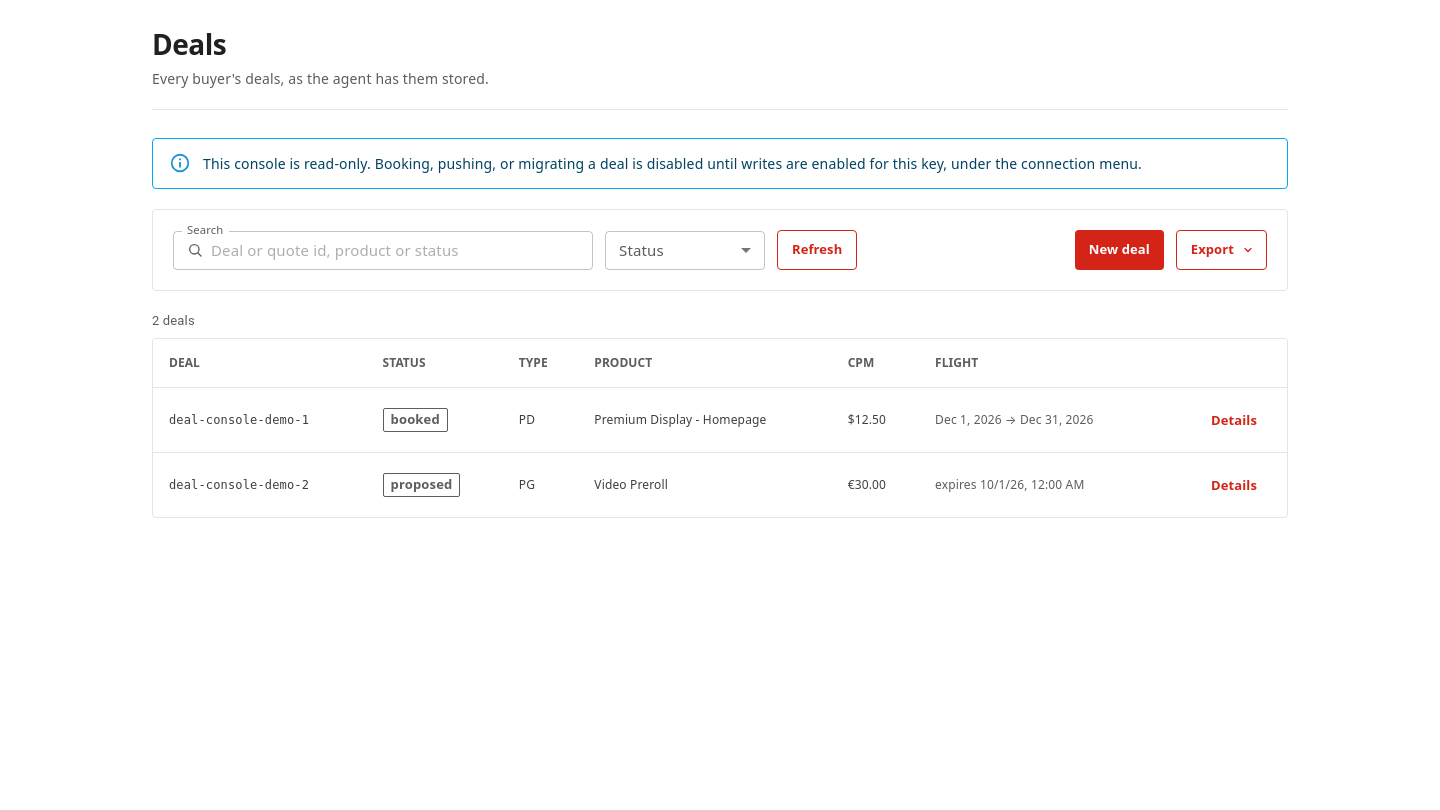
Test: the deals screen › distinguishes an empty filter result from no deals at all
Check: the text "deal-console-demo-1" is shown, box [153, 388, 367, 453]
Step 1. Click the dropdown named "Status" → point(685, 250), box [605, 231, 765, 270]
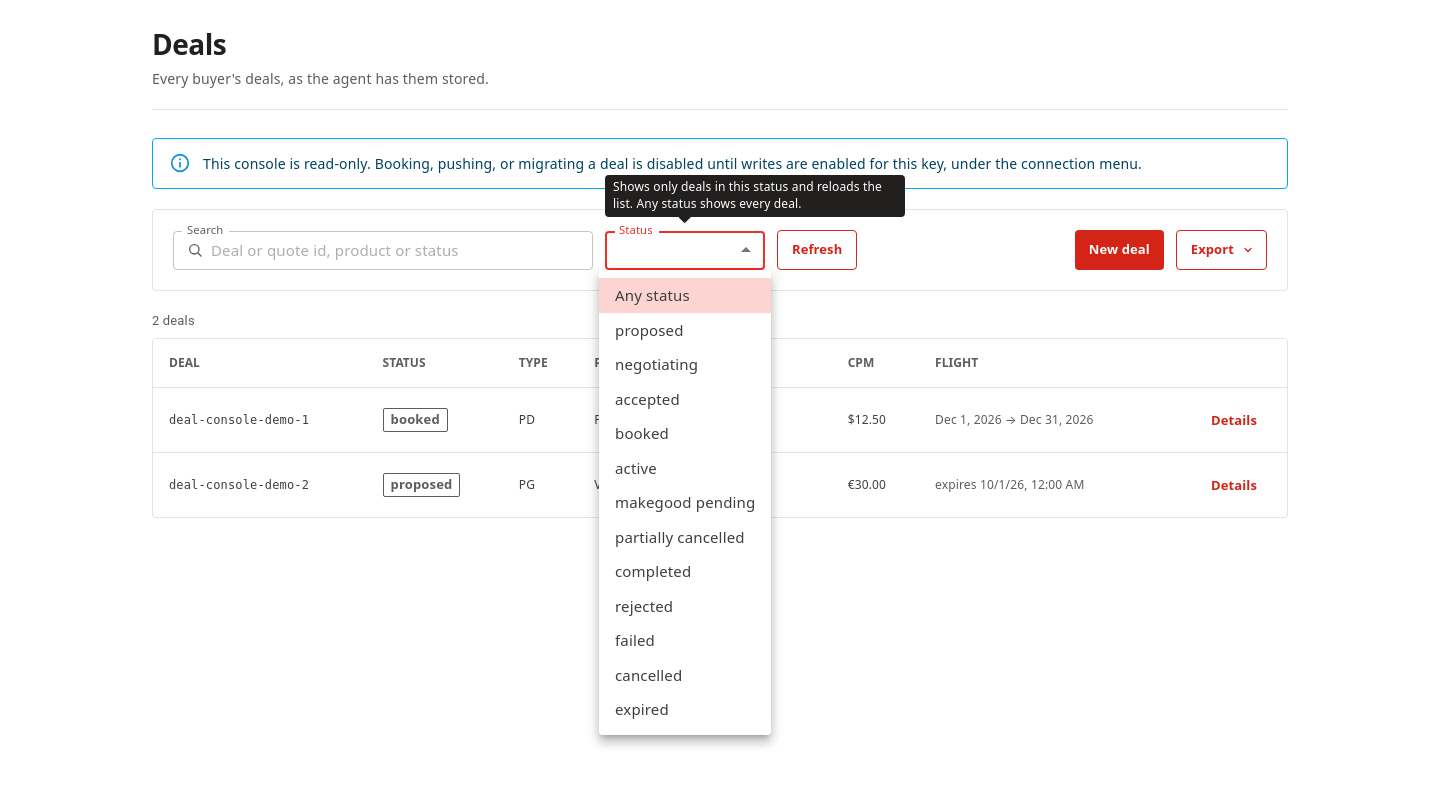
Step 2. Click the option "cancelled" → point(649, 674), box [615, 664, 682, 684]
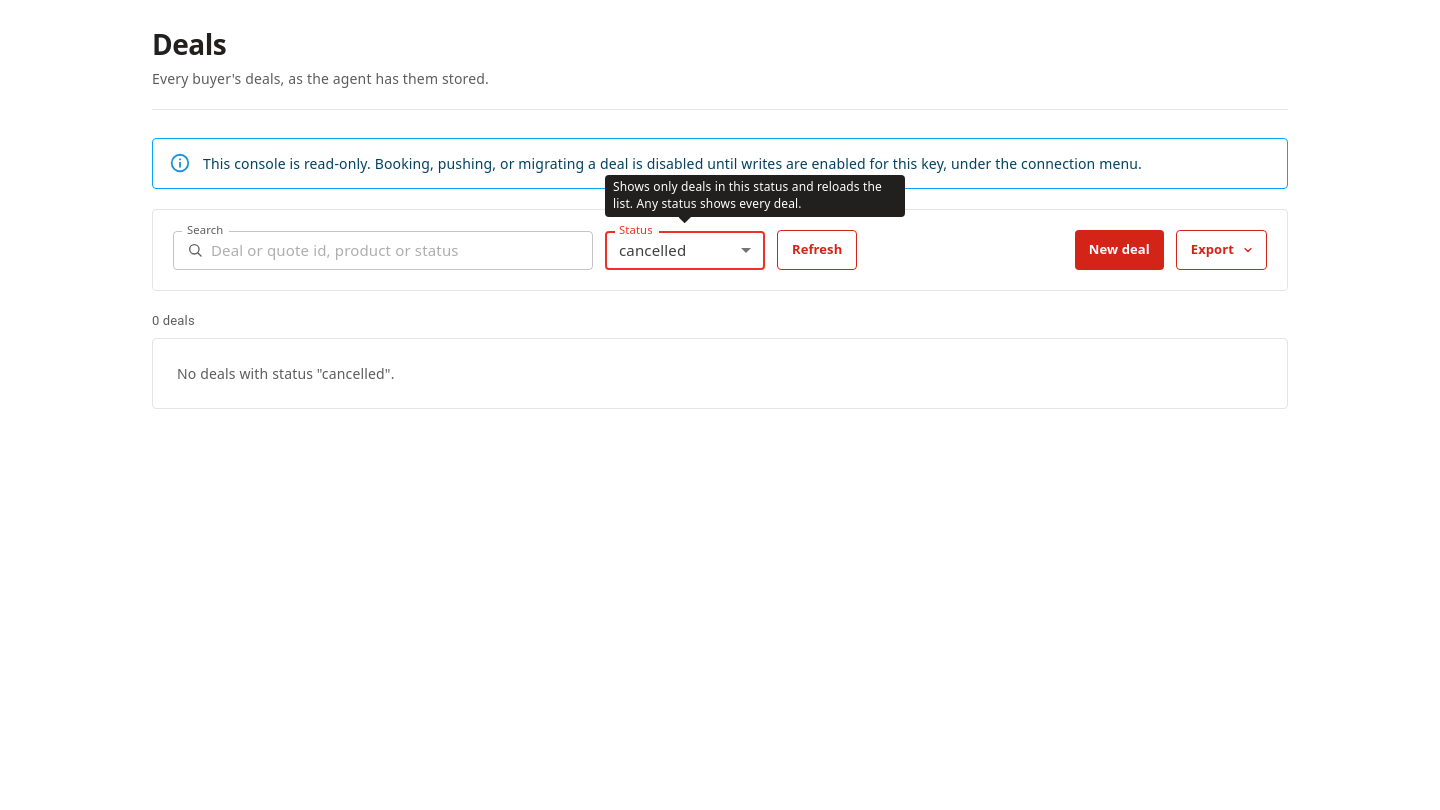
Check: the element showing "No deals with status \"cancelled\"." shows "No deals with status \"cancelled\"", box [177, 364, 395, 383]
